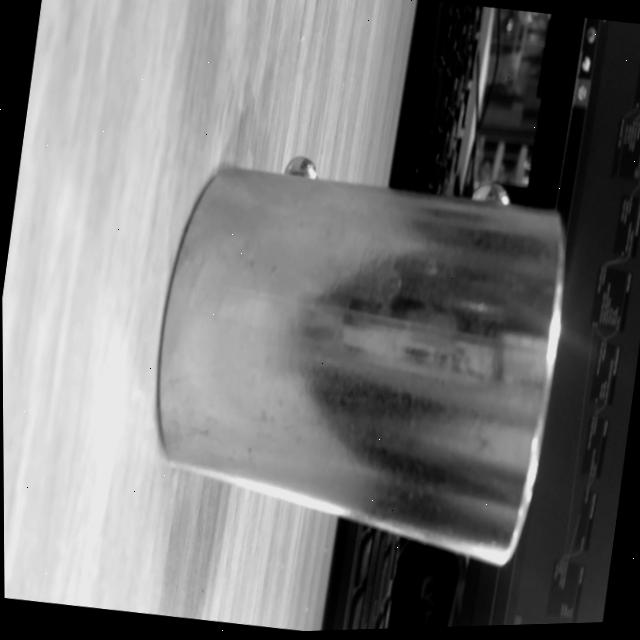Co_Nho: (135, 128, 585, 571)
